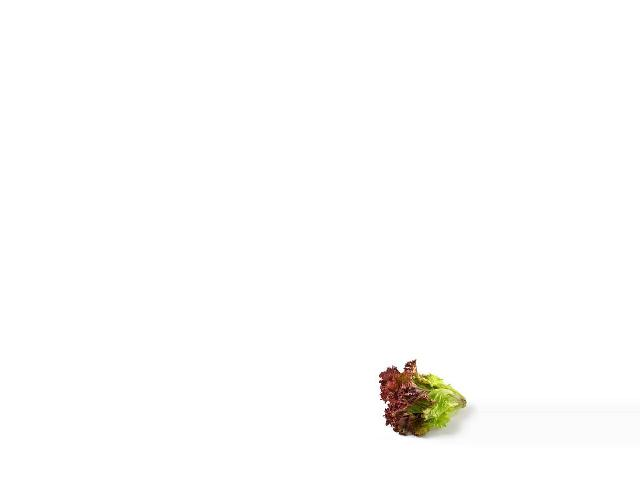lettuce: (374, 362, 477, 438)
